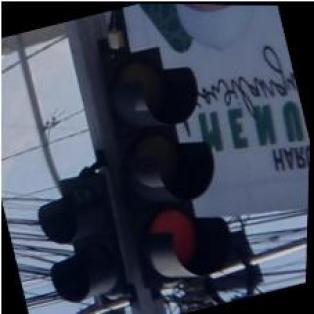Semaforo Rojo: (86, 36, 248, 290)
